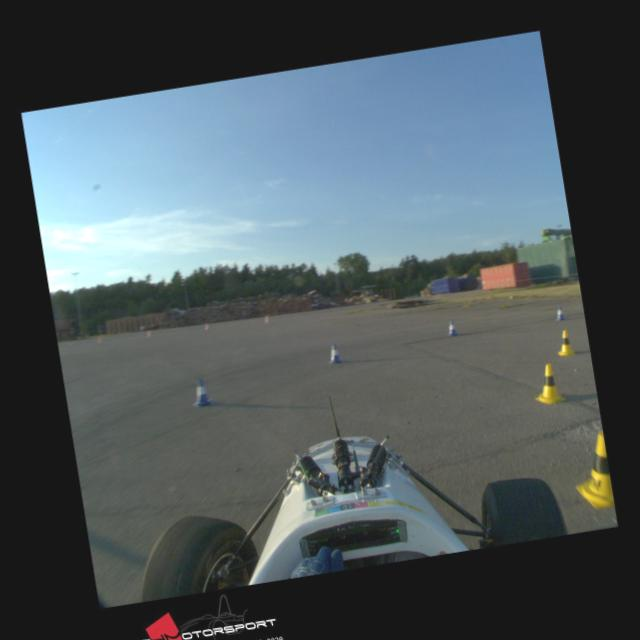blue_cone: (190, 376, 213, 408), (326, 343, 344, 365), (445, 320, 459, 337), (554, 306, 564, 322)
yellow_cone: (568, 431, 615, 512), (530, 362, 566, 406), (554, 329, 576, 358)
